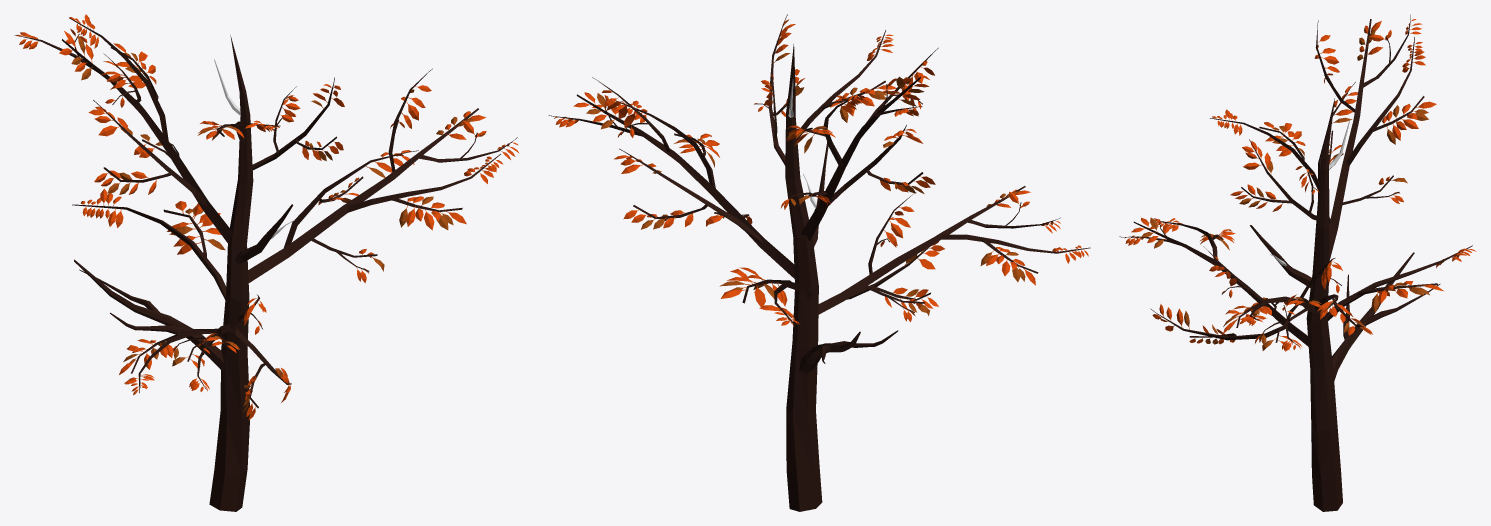
Rendered from Tree 1.fbx.
3 renders of one model, left to right at view 1: azimuth 30°, elevation 25°; view 2: azimuth 150°, elevation 25°; view 3: azimuth 270°, elevation 25°, orthographic. The views are drawn at different scales.
Visible parts, largest first — view 1: node_MeshObject2104761984-PolyPaper20, node_MeshObject-1671485248-PolyPaper13; view 2: node_MeshObject2104761984-PolyPaper20, node_MeshObject-1671485248-PolyPaper13; view 3: node_MeshObject2104761984-PolyPaper20, node_MeshObject-1671485248-PolyPaper13.
Part boxes in pixels (x1,y1,x2,y2): node_MeshObject2104761984-PolyPaper20: [14, 14, 519, 511]; node_MeshObject-1671485248-PolyPaper13: [72, 77, 344, 420]; node_MeshObject2104761984-PolyPaper20: [548, 44, 1025, 511]; node_MeshObject-1671485248-PolyPaper13: [719, 14, 1090, 373]; node_MeshObject2104761984-PolyPaper20: [1133, 14, 1436, 511]; node_MeshObject-1671485248-PolyPaper13: [1119, 109, 1476, 380].
Size of the model in its own units: 585 by 591 by 444.
